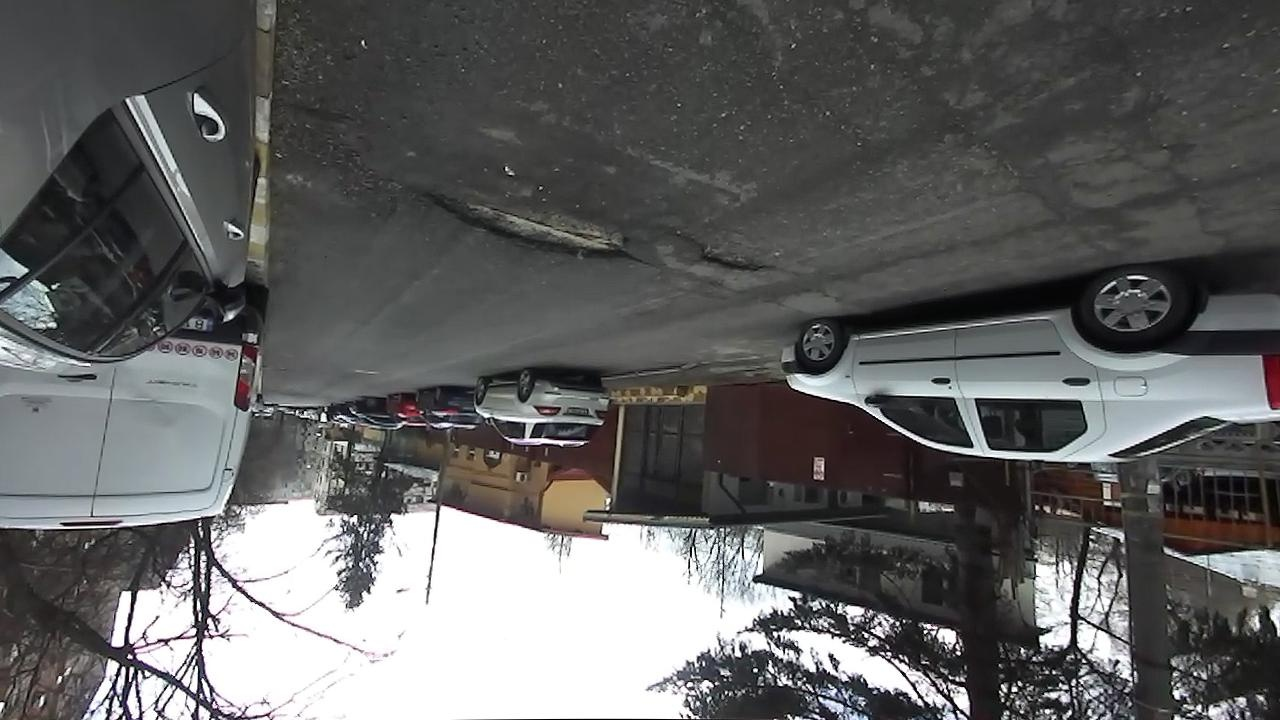pothole: (417, 185, 642, 267), (678, 229, 777, 276)
